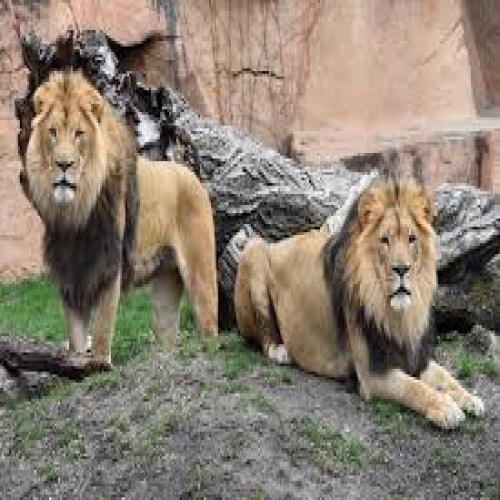lion-endangered: (232, 175, 485, 432), (26, 72, 222, 364)
